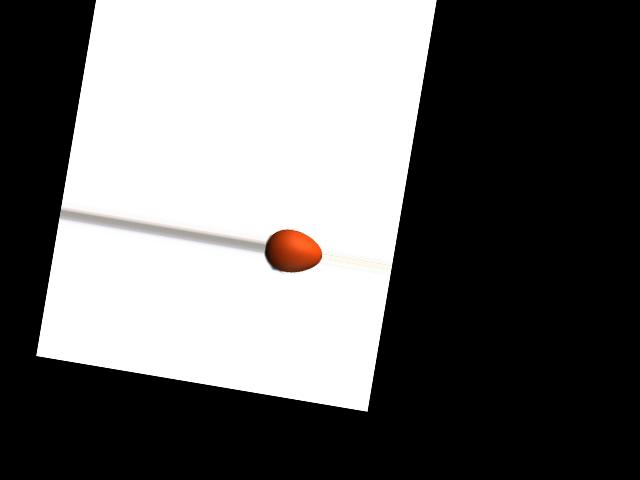egg: (262, 226, 324, 277)
